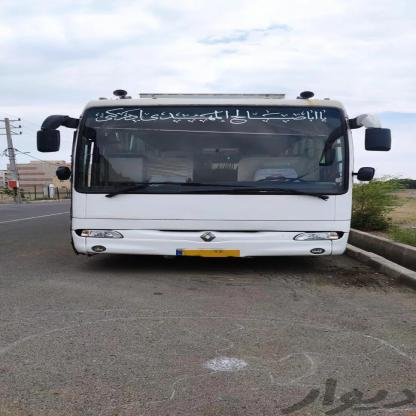Bus: (61, 93, 370, 268)
